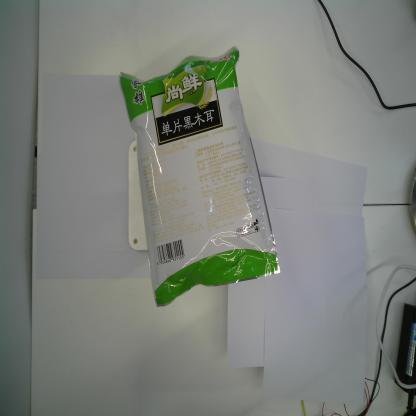Dried Food: (117, 44, 283, 309)
